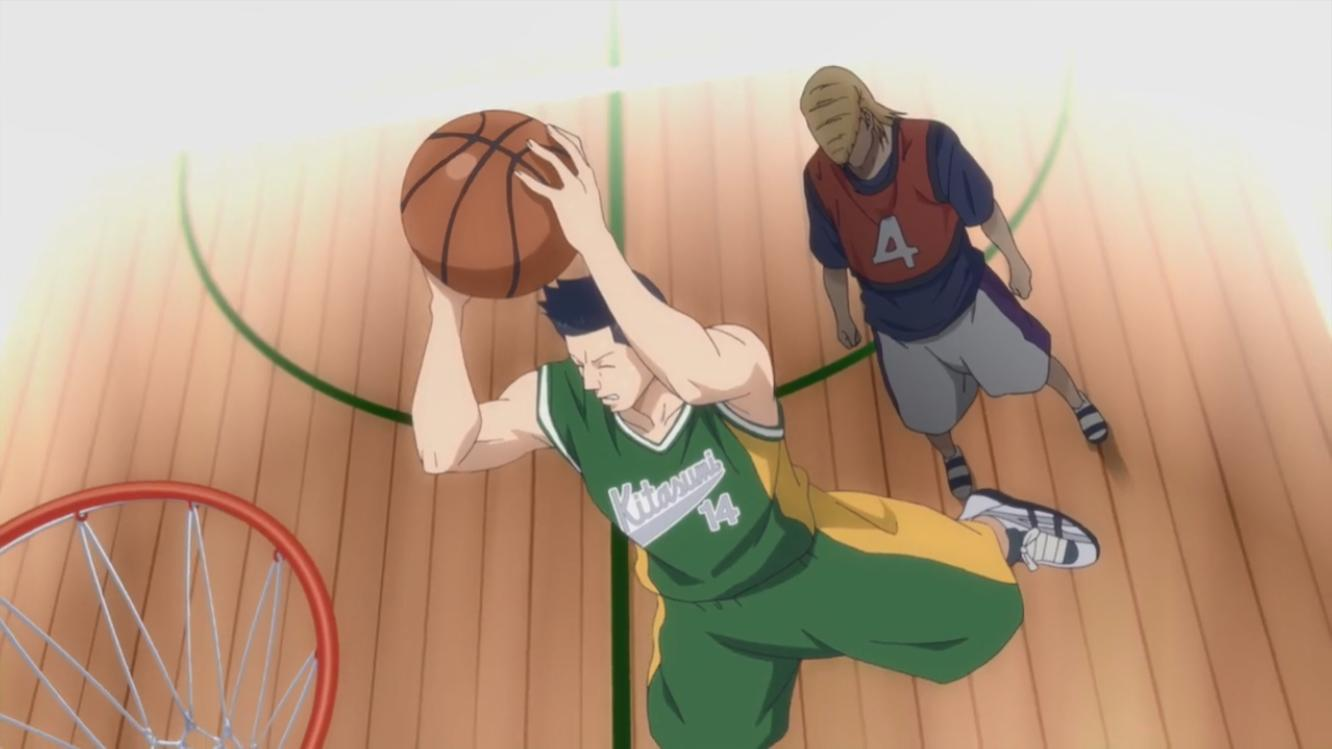ball: (398, 107, 593, 301)
